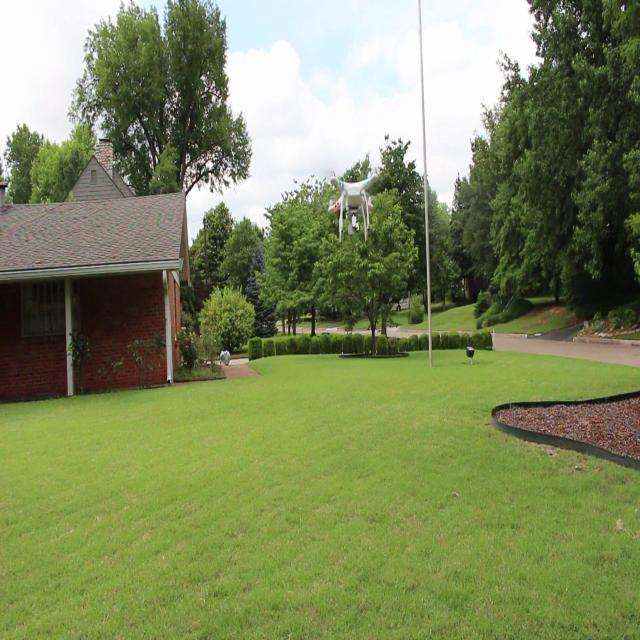drone: (322, 164, 382, 244)
